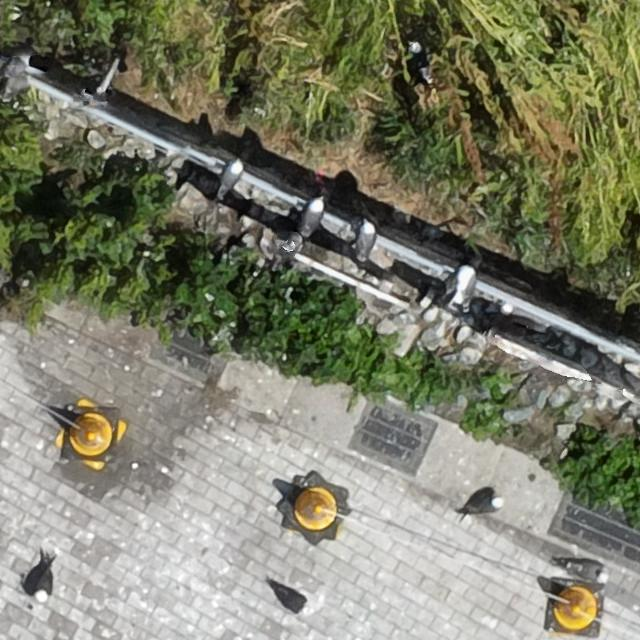umineko: (444, 266, 476, 315), (406, 40, 432, 79), (569, 562, 609, 584), (278, 588, 310, 612), (221, 158, 241, 196), (301, 200, 321, 236), (471, 495, 505, 513), (360, 222, 376, 256), (37, 569, 53, 600)
